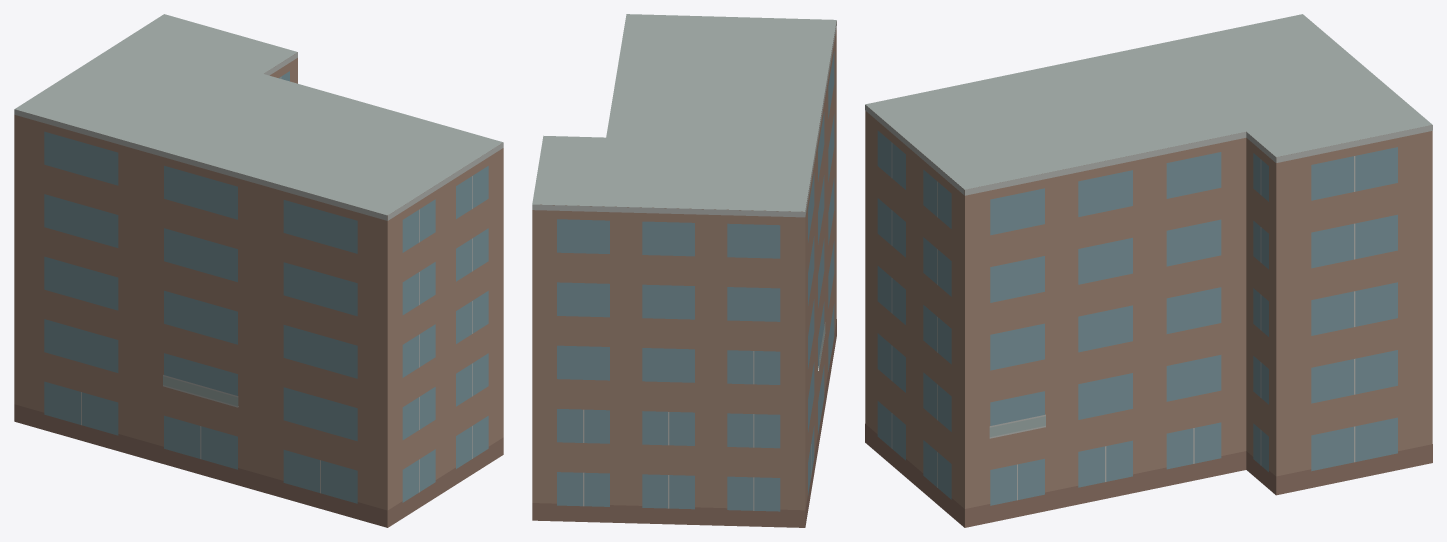
The model's file is survey-upis-32704032.glb.
3 renders of one model, left to right at view 1: azimuth 30°, elevation 25°; view 2: azimuth 150°, elevation 25°; view 3: azimuth 270°, elevation 25°, orthographic. The views are drawn at different scales.
Visible parts, largest first — view 1: survey-upis-32704032.tmp; view 2: survey-upis-32704032.tmp; view 3: survey-upis-32704032.tmp.
Boxes of the visible parts, x1,y1,x2,y2 form: survey-upis-32704032.tmp: [14, 14, 503, 527]; survey-upis-32704032.tmp: [532, 14, 836, 527]; survey-upis-32704032.tmp: [865, 14, 1432, 527].
Bounding box in the file's own units: 15.45 × 13.85 × 21.09.
